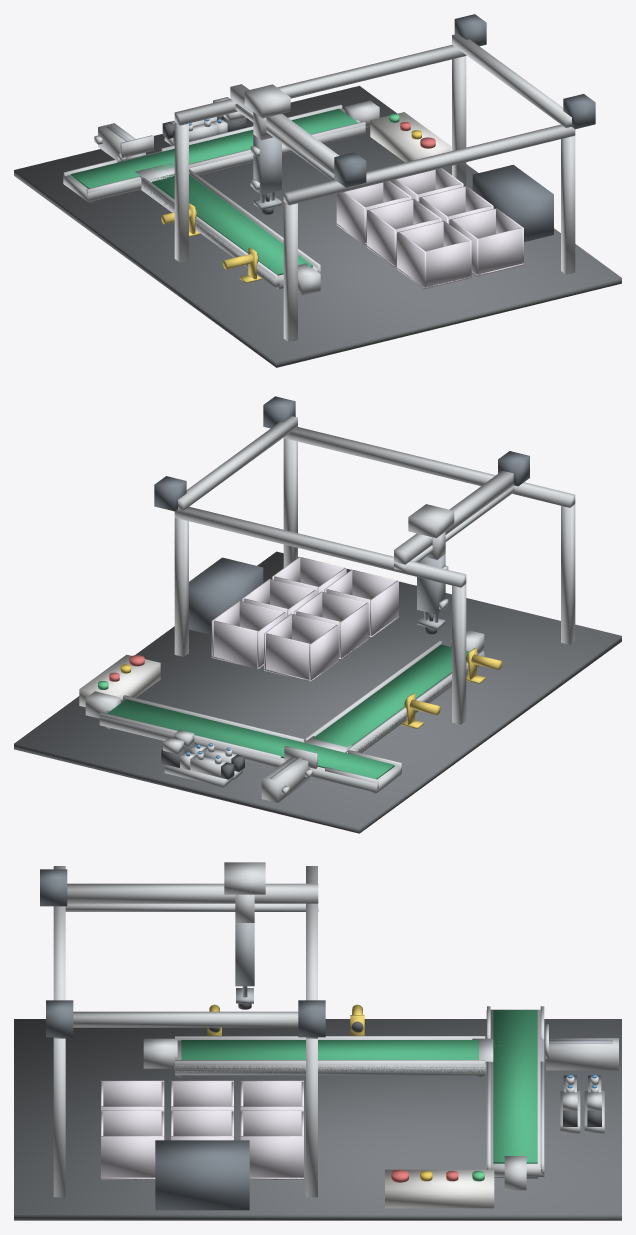
File: production_twin_v4_viewer.glb
The picture shows the model from 3 angles, top to bottom: view 1: azimuth 30°, elevation 25°; view 2: azimuth 150°, elevation 25°; view 3: azimuth 270°, elevation 25°; orthographic projection. The views are drawn at different scales.
Parts seen in each view (by area): view 1: base board, gantry X rail rear, front green belt, PLC 1214C envelope, long green belt, gantry X rail front, right Y guide, button station envelope, front conveyor chassis, gantry post left front, gantry post left rear, gantry post right rear (+29 smaller); view 2: base board, front green belt, long green belt, gantry X rail front, gantry X rail rear, PLC 1214C envelope, front conveyor chassis, right Y guide, moving Y rail, gantry post left front, gantry post left rear, gantry post right front (+27 smaller); view 3: base board, front green belt, PLC 1214C envelope, long green belt, moving Y rail, button station envelope, right Y guide, long conveyor side rail 1, long conveyor chassis, bin R3C2 side wall 1, bin R1C2 side wall 1, A1 front pusher cylinder (+22 smaller).
Boxes of the visible parts, left/top/right/bottom form: base board: left=14, top=86, right=621, bottom=367; gantry X rail rear: left=283, top=124, right=575, bottom=205; front green belt: left=70, top=108, right=357, bottom=188; PLC 1214C envelope: left=472, top=164, right=553, bottom=241; long green belt: left=151, top=174, right=312, bottom=275; gantry X rail front: left=174, top=45, right=466, bottom=125; right Y guide: left=452, top=34, right=571, bottom=127; button station envelope: left=370, top=112, right=451, bottom=162; front conveyor chassis: left=63, top=108, right=365, bottom=202; gantry post left front: left=174, top=122, right=188, bottom=262; gantry post left rear: left=283, top=202, right=297, bottom=342; gantry post right rear: left=561, top=135, right=575, bottom=274; base board: left=14, top=551, right=621, bottom=833; front green belt: left=107, top=699, right=394, bottom=779; long green belt: left=313, top=644, right=469, bottom=747; gantry X rail front: left=174, top=506, right=466, bottom=587; gantry X rail rear: left=283, top=427, right=575, bottom=507; PLC 1214C envelope: left=189, top=557, right=263, bottom=634; front conveyor chassis: left=99, top=699, right=401, bottom=792; right Y guide: left=178, top=416, right=297, bottom=510; moving Y rail: left=394, top=470, right=513, bottom=564; gantry post left front: left=452, top=584, right=466, bottom=724; gantry post left rear: left=561, top=504, right=575, bottom=644; gantry post right front: left=174, top=518, right=188, bottom=656; base board: left=14, top=1019, right=621, bottom=1220; front green belt: left=493, top=1010, right=537, bottom=1163; PLC 1214C envelope: left=155, top=1140, right=249, bottom=1210; long green belt: left=181, top=1040, right=478, bottom=1059; moving Y rail: left=67, top=883, right=318, bottom=903; button station envelope: left=385, top=1169, right=494, bottom=1208; right Y guide: left=73, top=1011, right=298, bottom=1027; long conveyor side rail 1: left=175, top=1060, right=485, bottom=1072; long conveyor chassis: left=175, top=1040, right=485, bottom=1075; bin R3C2 side wall 1: left=101, top=1136, right=164, bottom=1179; bin R1C2 side wall 1: left=240, top=1136, right=303, bottom=1179; A1 front pusher cylinder: left=546, top=1038, right=618, bottom=1070.
Bounding box in the file's own units: 0.76 × 0.375 × 1.
